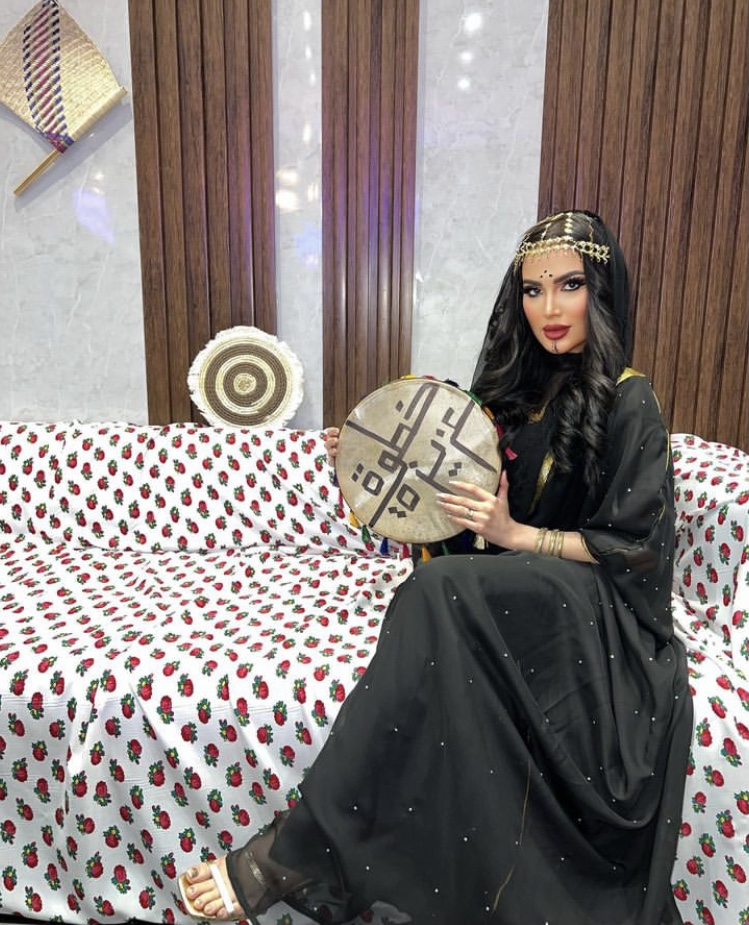Saudi_Founding_Day: (176, 209, 694, 925)
